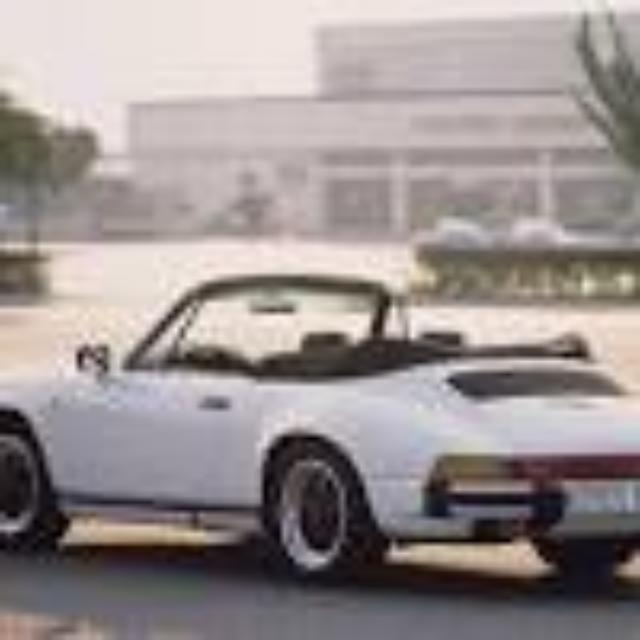porsche: (0, 275, 640, 587)
